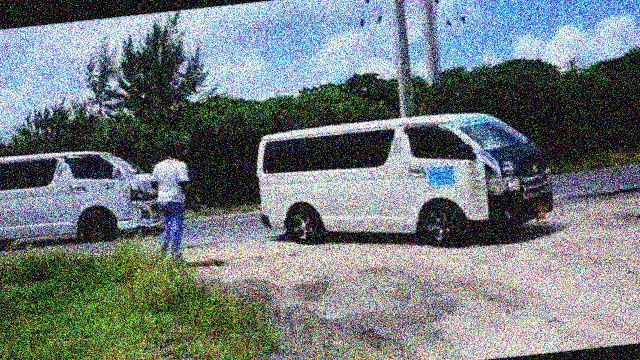van: (252, 101, 559, 260), (0, 135, 177, 251)
